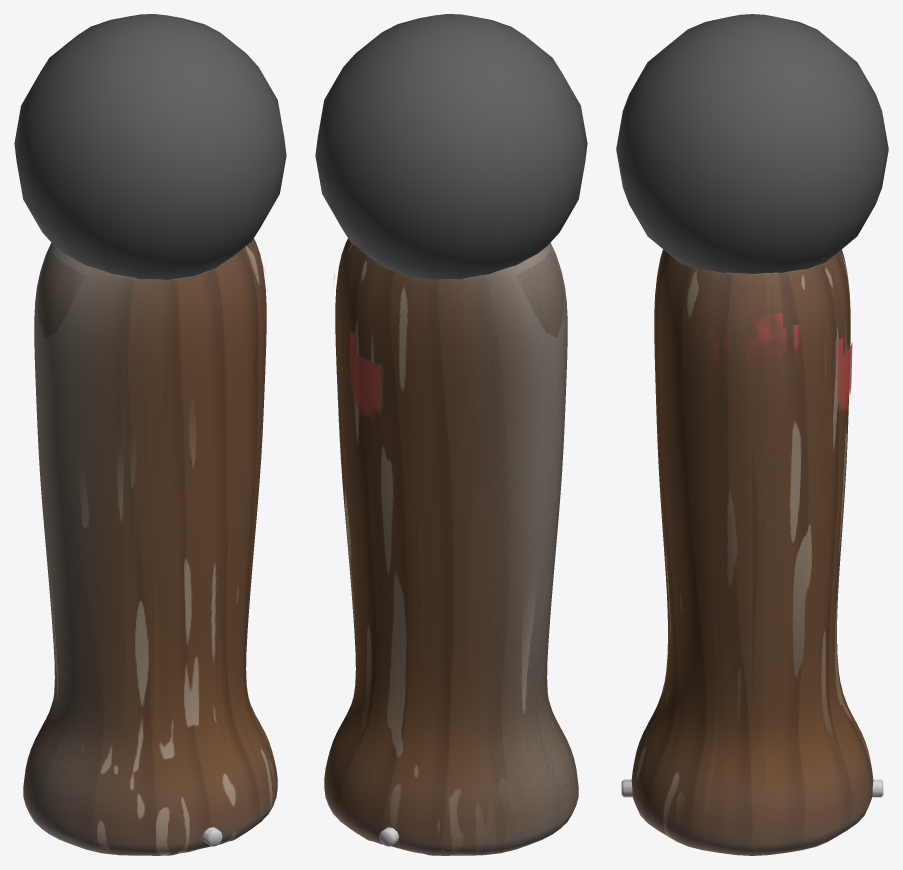
The model's file is UpperArm_L.glb.
3 renders of one model, left to right at view 1: azimuth 30°, elevation 25°; view 2: azimuth 150°, elevation 25°; view 3: azimuth 270°, elevation 25°, orthographic.
Parts seen in each view (by area): view 1: UpperArm_L, UpperArm_L_Ball; view 2: UpperArm_L, UpperArm_L_Ball, UpperArm_L_Paint; view 3: UpperArm_L, UpperArm_L_Ball, UpperArm_L_Paint.
Part boxes in pixels (x1,y1,x2,y2): UpperArm_L: [23, 238, 277, 855]; UpperArm_L_Ball: [14, 14, 286, 279]; UpperArm_L: [324, 238, 578, 855]; UpperArm_L_Ball: [315, 14, 587, 279]; UpperArm_L_Paint: [333, 274, 382, 424]; UpperArm_L: [631, 249, 873, 855]; UpperArm_L_Ball: [616, 14, 888, 273]; UpperArm_L_Paint: [696, 310, 852, 412].
Bounding box in the file's own units: 0.116 × 0.3677 × 0.116.
4 materials, 2 textured.
